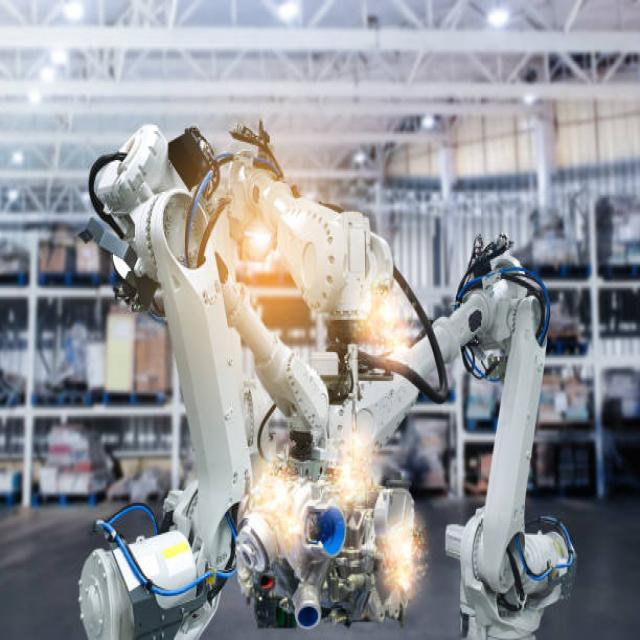Robotic-arm: (75, 119, 394, 640), (394, 230, 582, 640)
